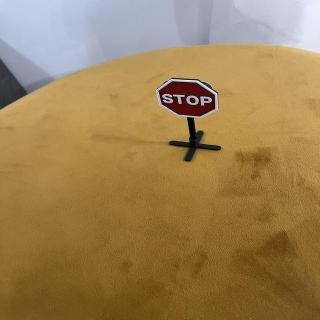sign_stop: (157, 78, 221, 121)
